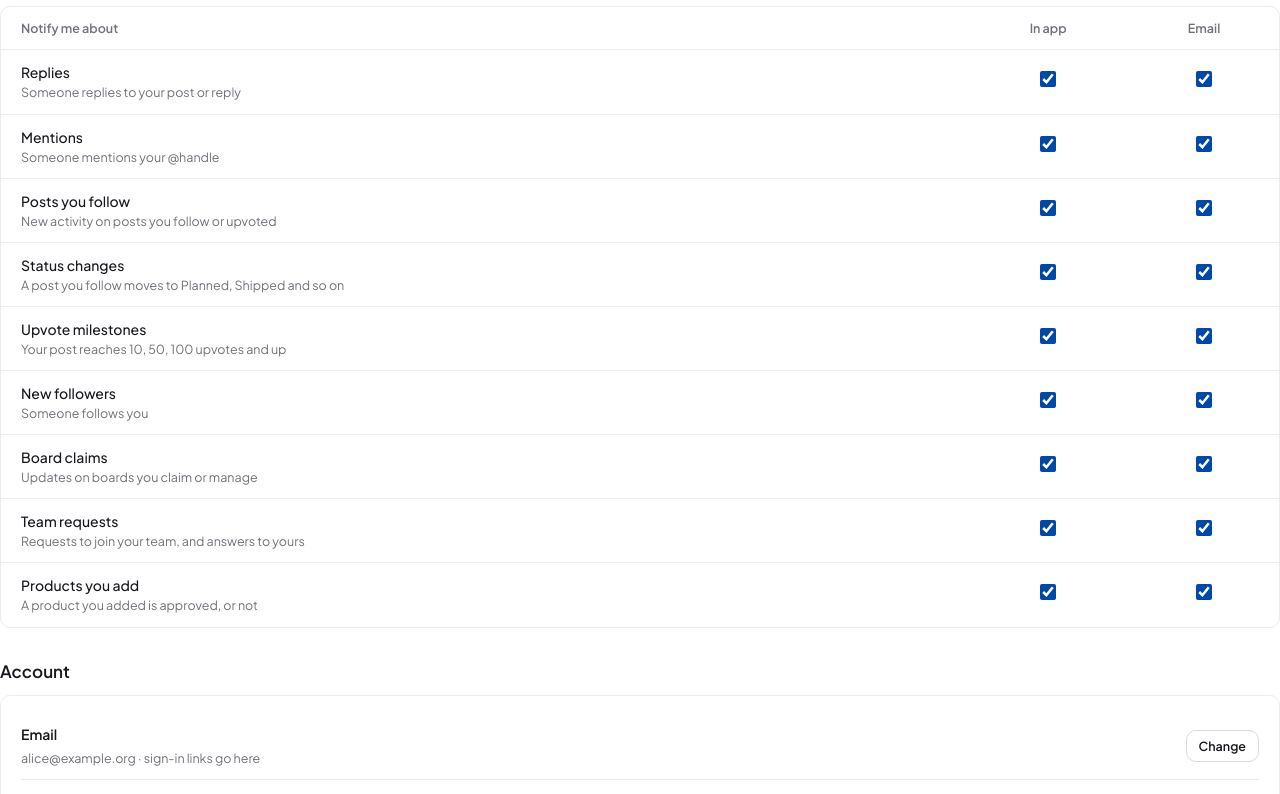
notification preferences › puts a refused toggle back and says so
(page scrolled)
What coordinates should you click on to do the following:
click the checkbox named "New followers: In app"
I would click on:
 (1048, 400)
Its box is [1040,392,1056,408].
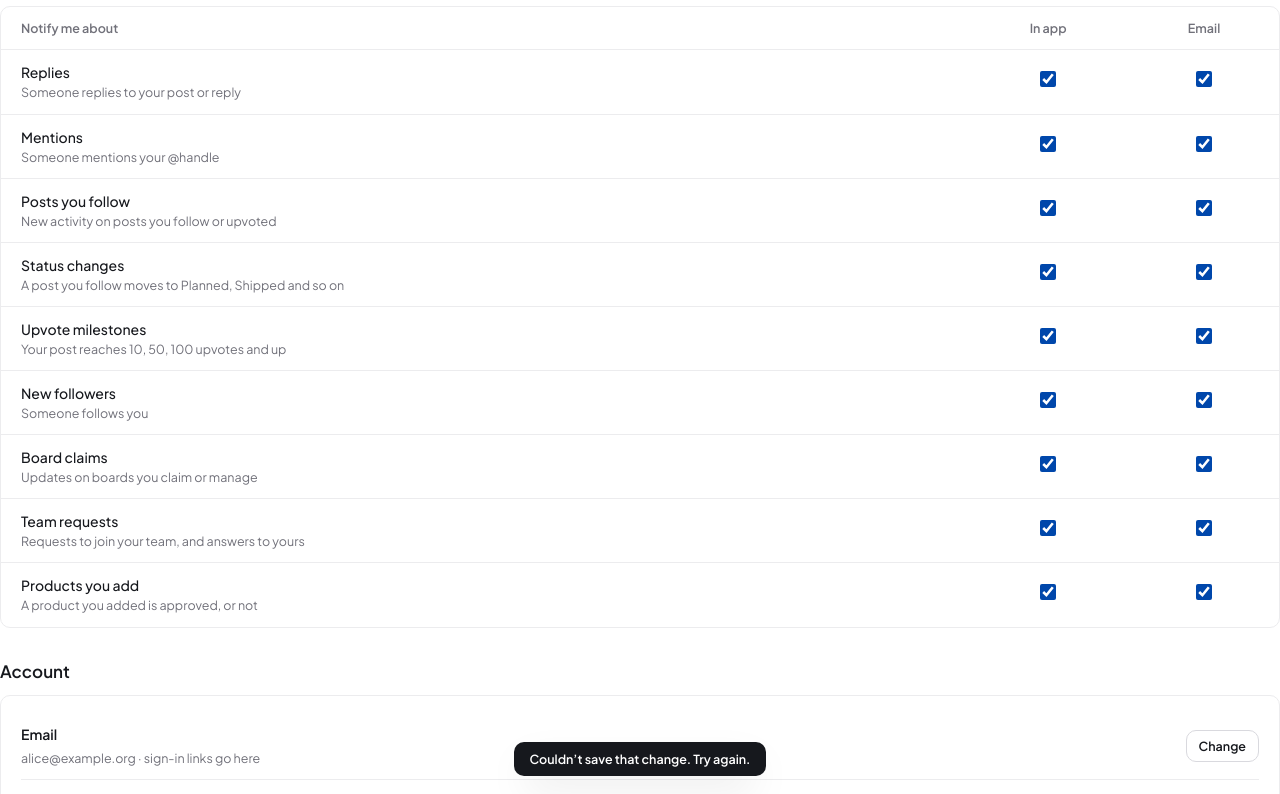
Now the text "Couldn’t save that change. Try again." is shown, box [530,750,750,768]
